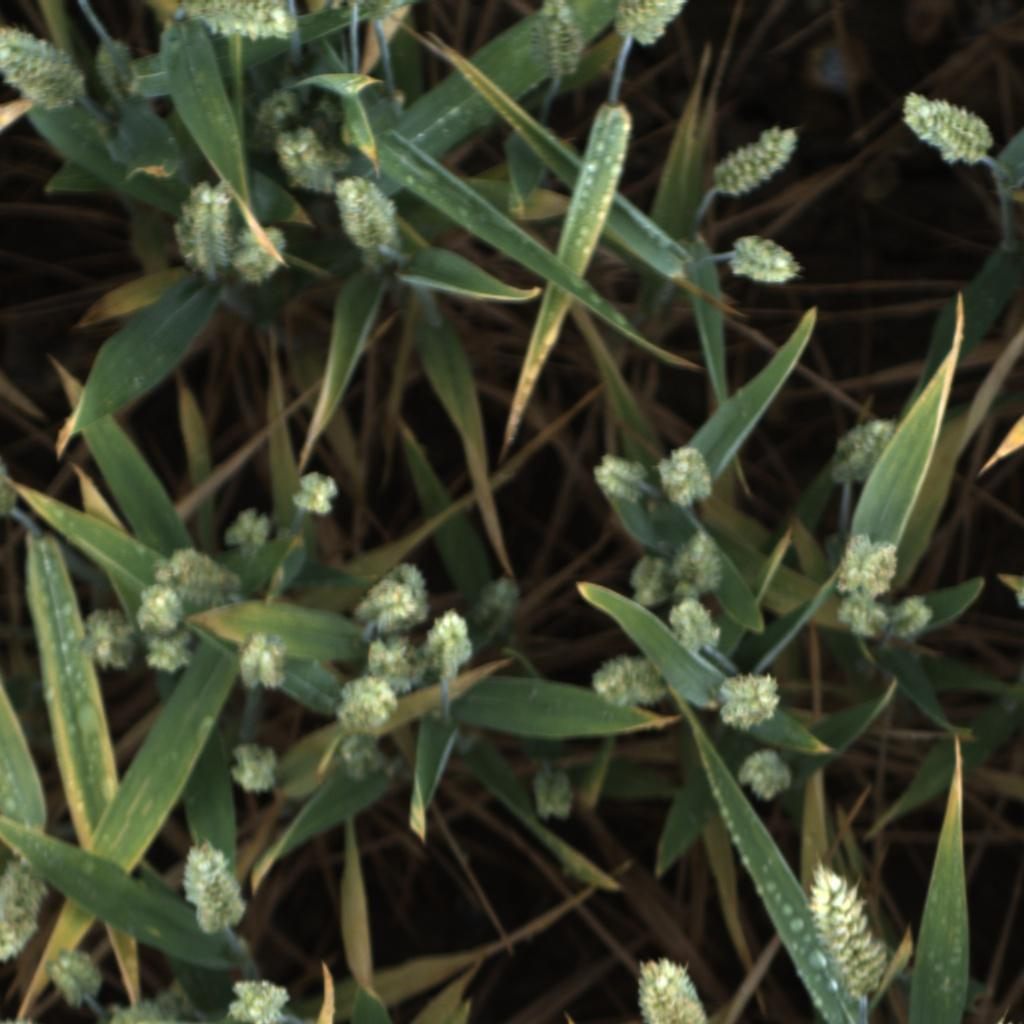0-0: (802, 864, 895, 1000), (899, 87, 996, 170), (0, 22, 88, 112), (701, 122, 801, 197), (178, 840, 254, 936), (171, 179, 241, 283), (331, 170, 410, 259), (151, 546, 248, 615), (273, 127, 360, 198), (171, 0, 301, 45), (0, 854, 53, 964), (630, 955, 711, 1024), (354, 563, 432, 634), (828, 410, 898, 487), (523, 0, 587, 84), (588, 646, 665, 711), (230, 628, 301, 696), (831, 531, 903, 598), (521, 754, 585, 829), (708, 671, 786, 732), (329, 673, 401, 735), (671, 526, 729, 602), (225, 223, 290, 290), (727, 233, 804, 288), (736, 741, 797, 809), (423, 604, 473, 685), (363, 630, 422, 698), (45, 945, 107, 1009), (655, 443, 716, 508), (92, 37, 143, 114), (607, 0, 692, 46), (83, 605, 136, 676), (661, 599, 728, 655), (620, 548, 678, 612), (469, 570, 521, 641), (591, 449, 652, 507), (225, 741, 286, 798), (224, 975, 293, 1024), (129, 582, 186, 638), (886, 584, 940, 643), (222, 507, 274, 568), (337, 728, 391, 783), (834, 594, 890, 643), (143, 628, 198, 675), (291, 470, 342, 519), (253, 88, 302, 131), (104, 998, 182, 1024), (149, 981, 195, 1019), (303, 95, 345, 130), (0, 458, 21, 520), (359, 0, 406, 23)
